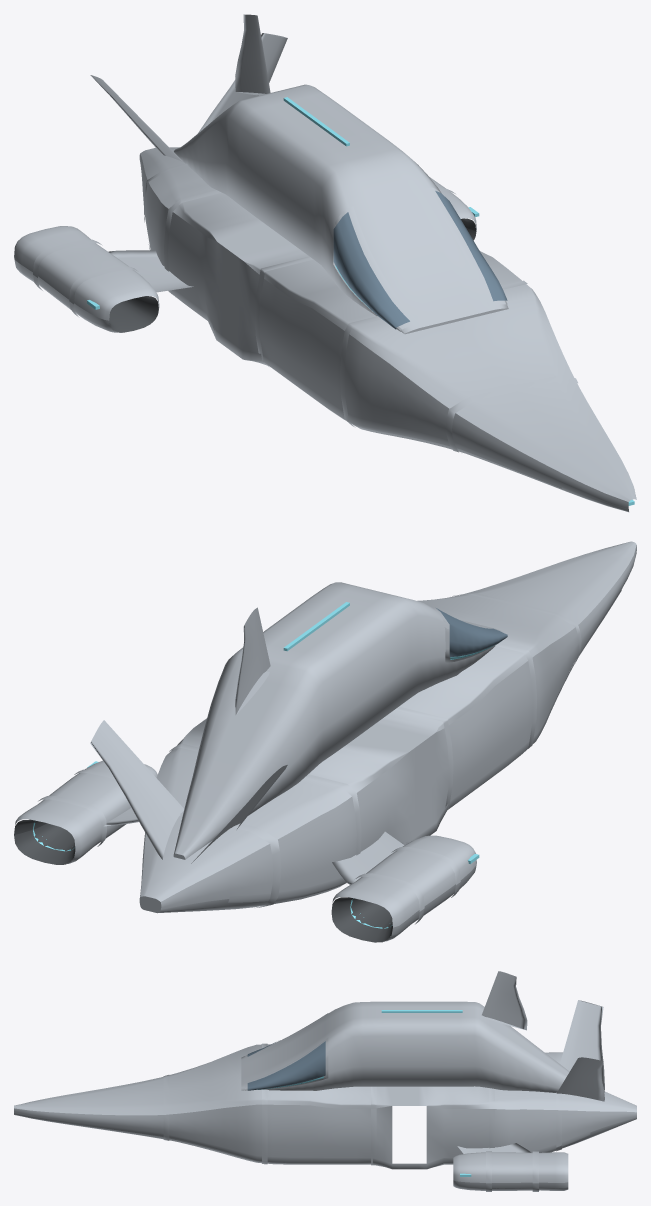
Rendered from kestrel-hull.glb.
3 views of the same model, one above another, from view 1: azimuth 30°, elevation 25°; view 2: azimuth 150°, elevation 25°; view 3: azimuth 270°, elevation 25° (orthographic). The views are drawn at different scales.
Parts seen in each view (by area): view 1: hull, accent, trim, glass, dark; view 2: hull, accent, trim, dark, glass, glow; view 3: hull, accent, trim, glass, glow.
Boxes of the visible parts, bbox=[...] form: hull: bbox=[139, 84, 636, 512]; accent: bbox=[14, 14, 476, 332]; trim: bbox=[33, 163, 577, 488]; glass: bbox=[333, 191, 507, 329]; dark: bbox=[109, 218, 476, 332]; hull: bbox=[139, 541, 636, 913]; accent: bbox=[15, 607, 476, 941]; trim: bbox=[38, 589, 621, 924]; dark: bbox=[14, 819, 392, 942]; glass: bbox=[436, 608, 507, 656]; glow: bbox=[33, 602, 494, 928]; hull: bbox=[14, 1001, 636, 1166]; accent: bbox=[453, 971, 604, 1190]; trim: bbox=[67, 1013, 590, 1191]; glass: bbox=[247, 1041, 325, 1090]; glow: bbox=[258, 1010, 471, 1176].
Bounding box in the file's own units: 9.26 × 6.13 × 20.
